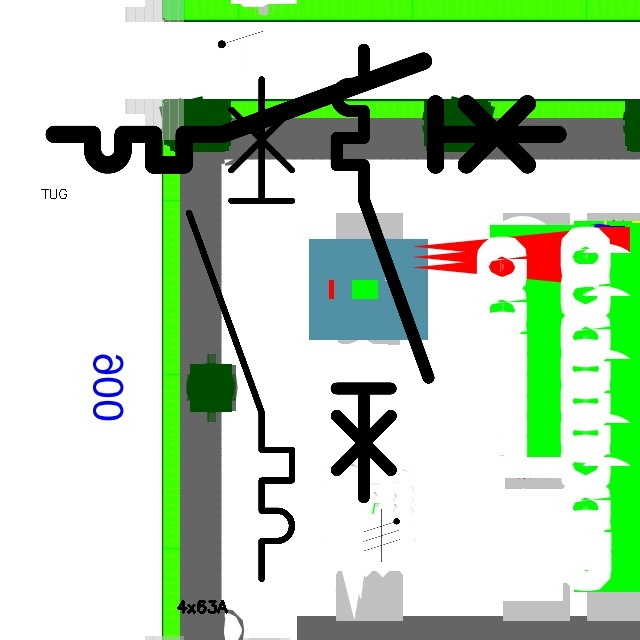interruptor_termomagnetico: (41, 48, 571, 178), (176, 66, 305, 592), (325, 38, 440, 509)
